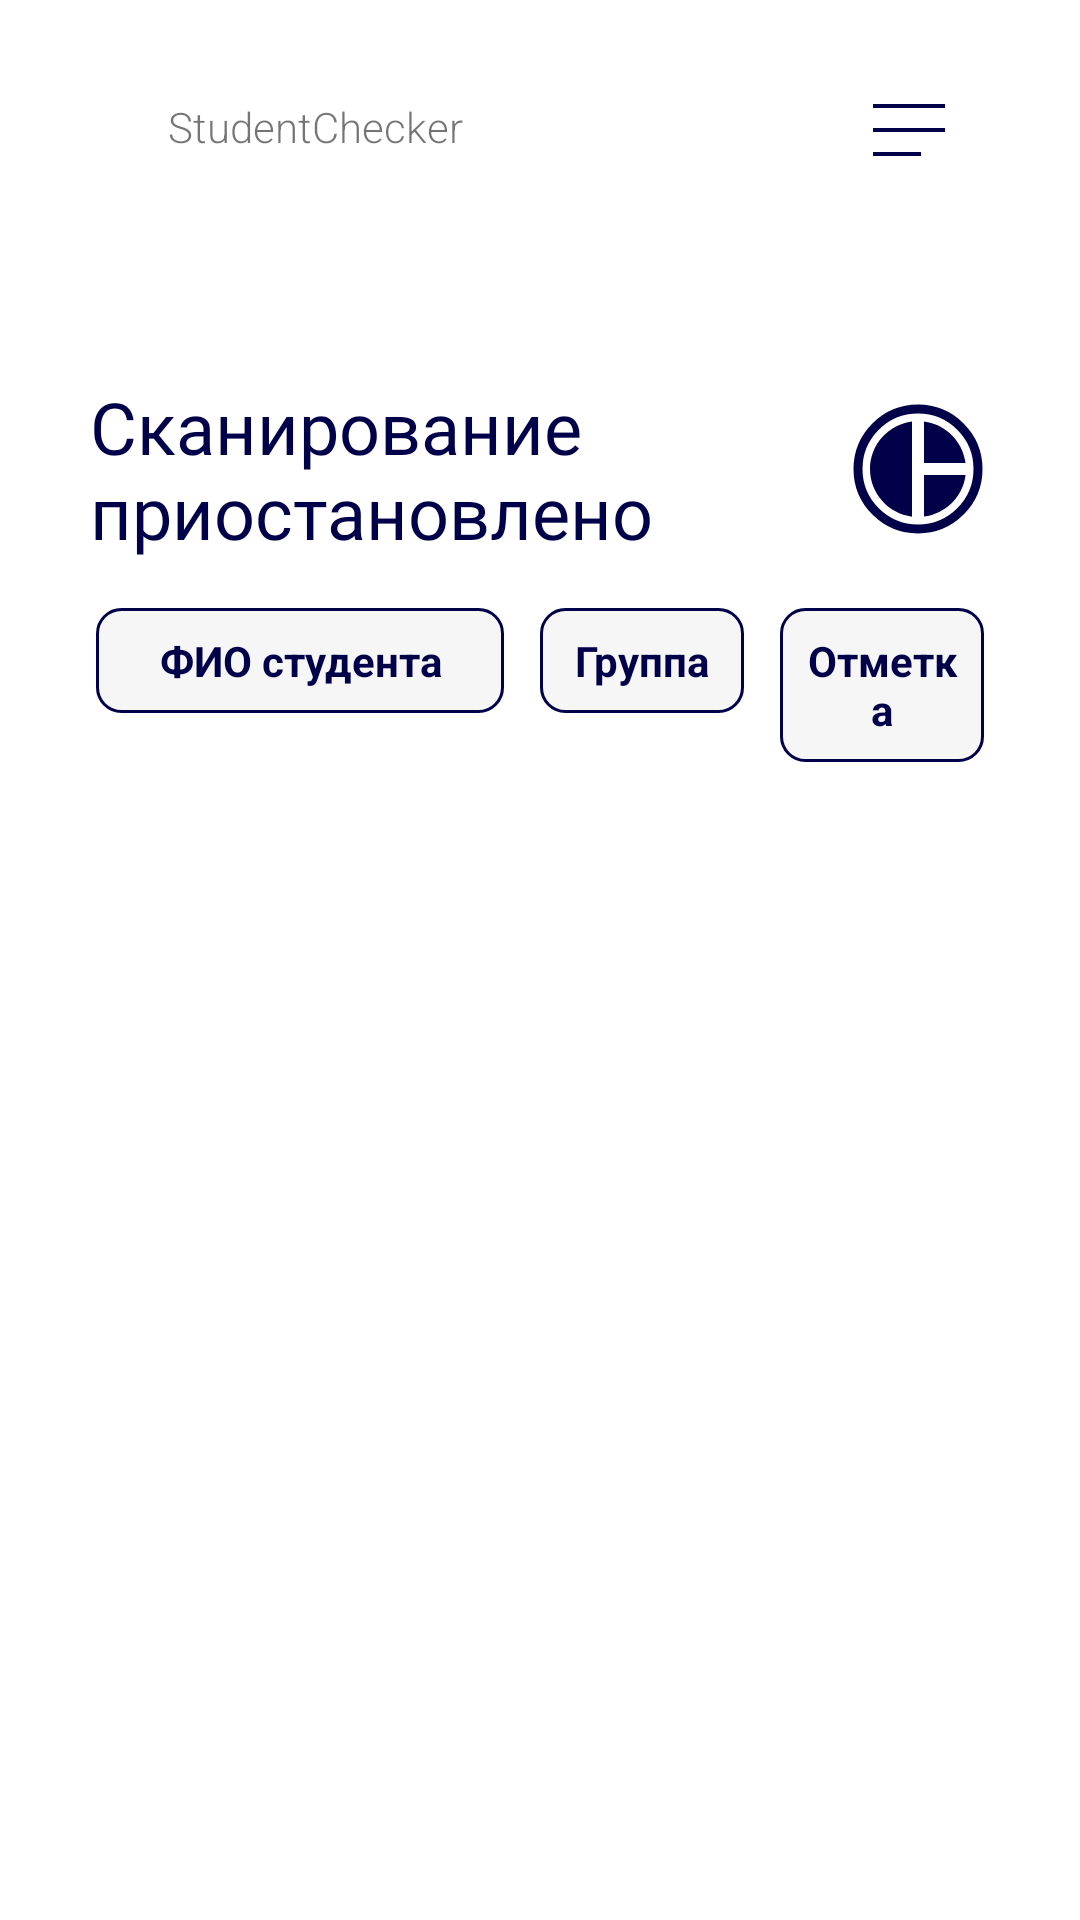

Named icons in this screenshot (1080w x 1920h) and their centers, point (x, y):
Открыть меню: point (909, 130)
